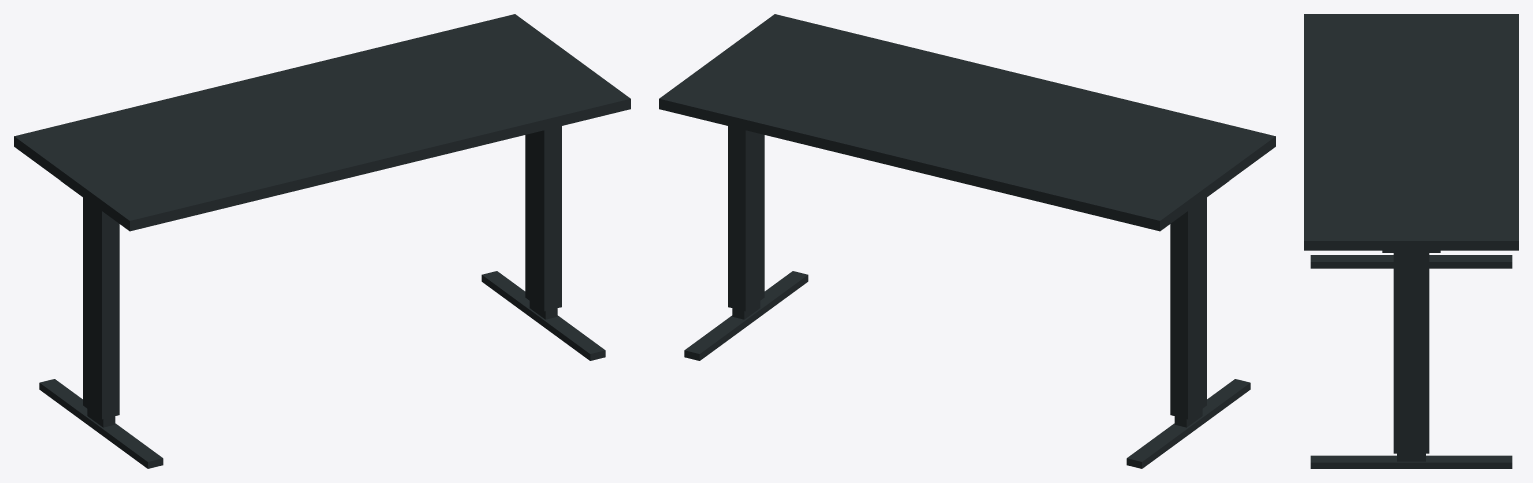
Rendered from TallDeskV3.fbx.
The picture shows the model from 3 angles, left to right: view 1: azimuth 30°, elevation 25°; view 2: azimuth 150°, elevation 25°; view 3: azimuth 270°, elevation 25°; orthographic projection. The views are drawn at different scales.
Visible parts, largest first — view 1: TallDeskV3; view 2: TallDeskV3; view 3: TallDeskV3.
Boxes of the visible parts, x1=… form: TallDeskV3: x1=14, y1=14, x2=630, y2=468; TallDeskV3: x1=659, y1=14, x2=1275, y2=468; TallDeskV3: x1=1304, y1=14, x2=1518, y2=468.
Size of the model in its own units: 200 by 97.64 by 80.
